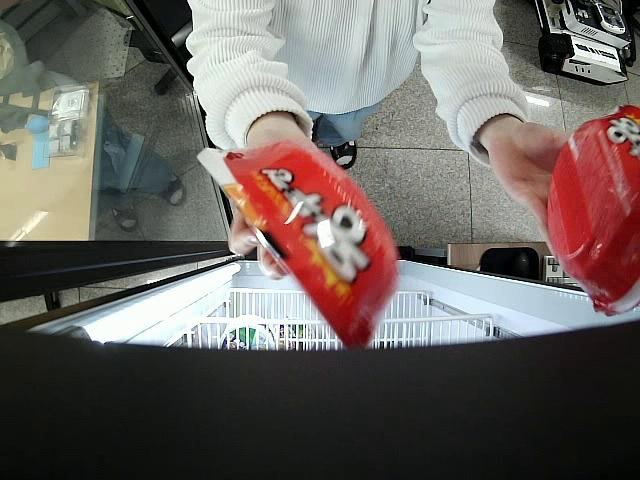00_hand: (229, 128, 322, 281), (479, 109, 573, 236)
10_wangTtukkeong: (197, 139, 400, 350), (547, 105, 640, 316)
